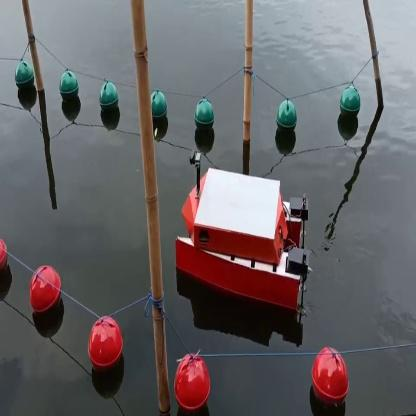green_buoy: (98, 81, 121, 121), (58, 67, 78, 109), (276, 100, 297, 136), (13, 63, 35, 96), (195, 98, 215, 134), (151, 91, 168, 127), (340, 88, 358, 119)
red_buoy: (310, 347, 350, 407), (174, 356, 211, 414), (30, 264, 58, 324), (90, 321, 124, 367)
